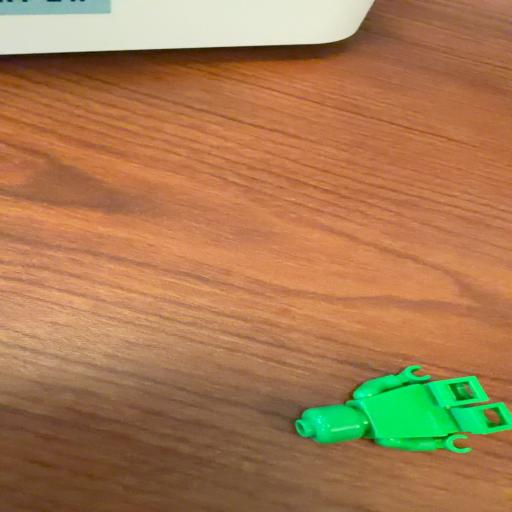UnoQ-minifig-detector: (295, 365, 512, 453)
